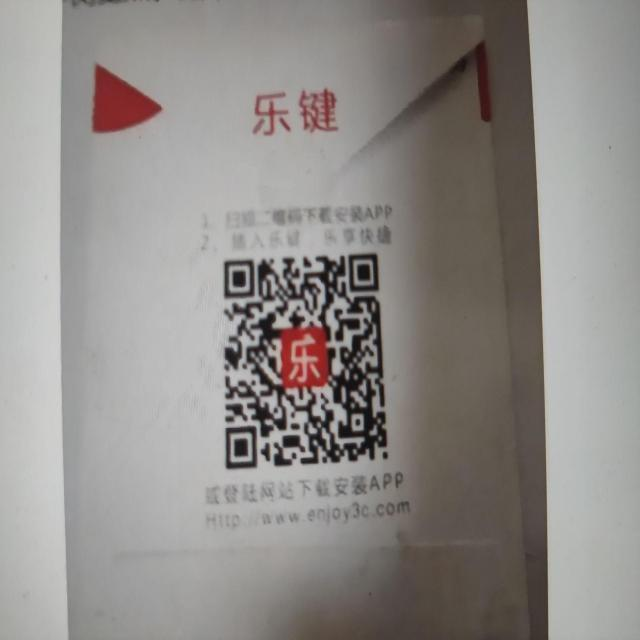qr_code: (224, 253, 388, 470)
